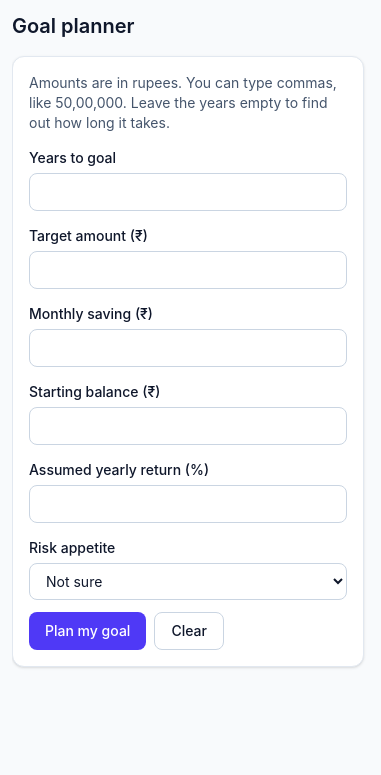
Test: GoalsView: the form › the problems go away once the form is right
Click the button "Plan my goal": coordinates (88, 631) [29,612,146,650]
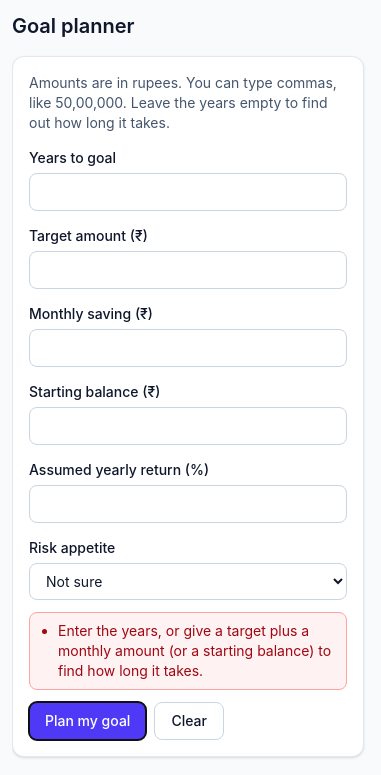
In the field labelled "Years to goal": coordinates (188, 192) [29,173,347,211], type "10"
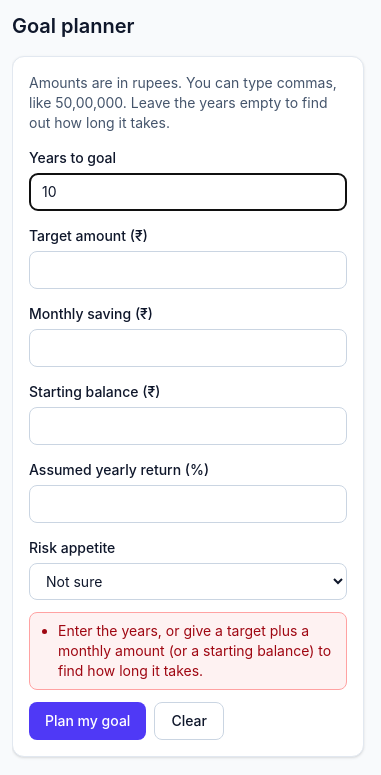
In the field labelled "Monthly saving (₹)": coordinates (188, 348) [29,329,347,367], type "1000"
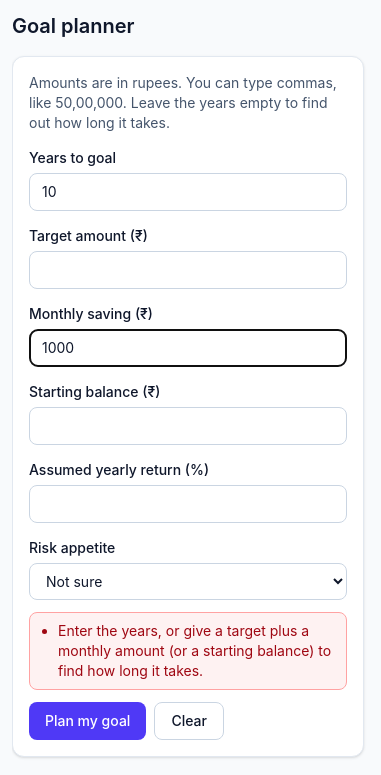
Click the button "Plan my goal": coordinates (88, 721) [29,702,146,740]
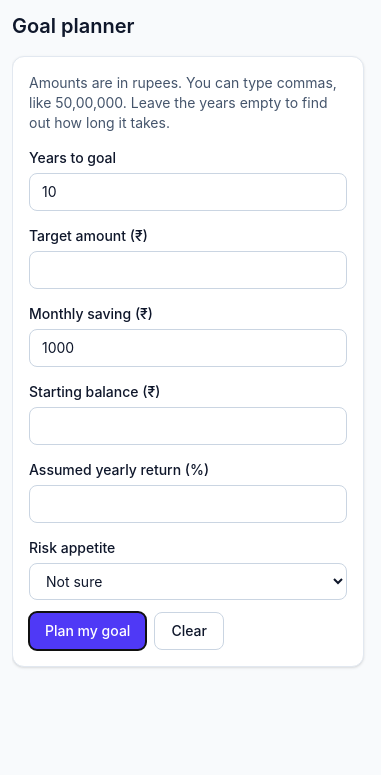
Check: the message "Enter the years, or give a target plus a monthly amount (or a starting balance)" is gone
